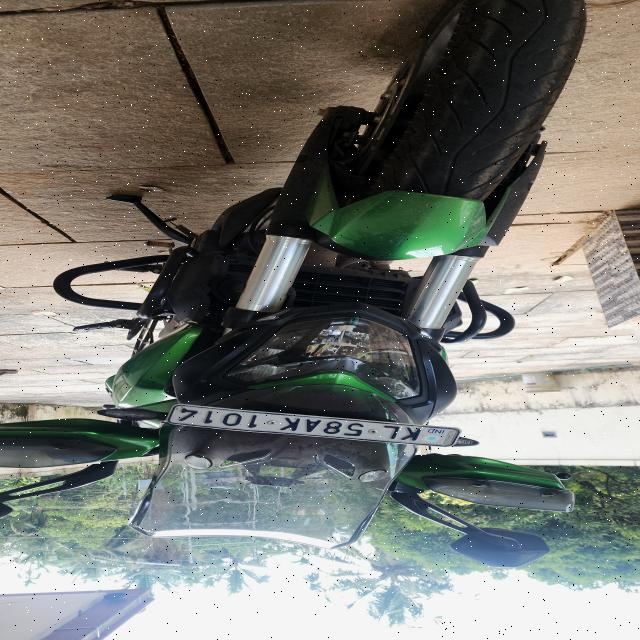headlight: (222, 316, 428, 401)
